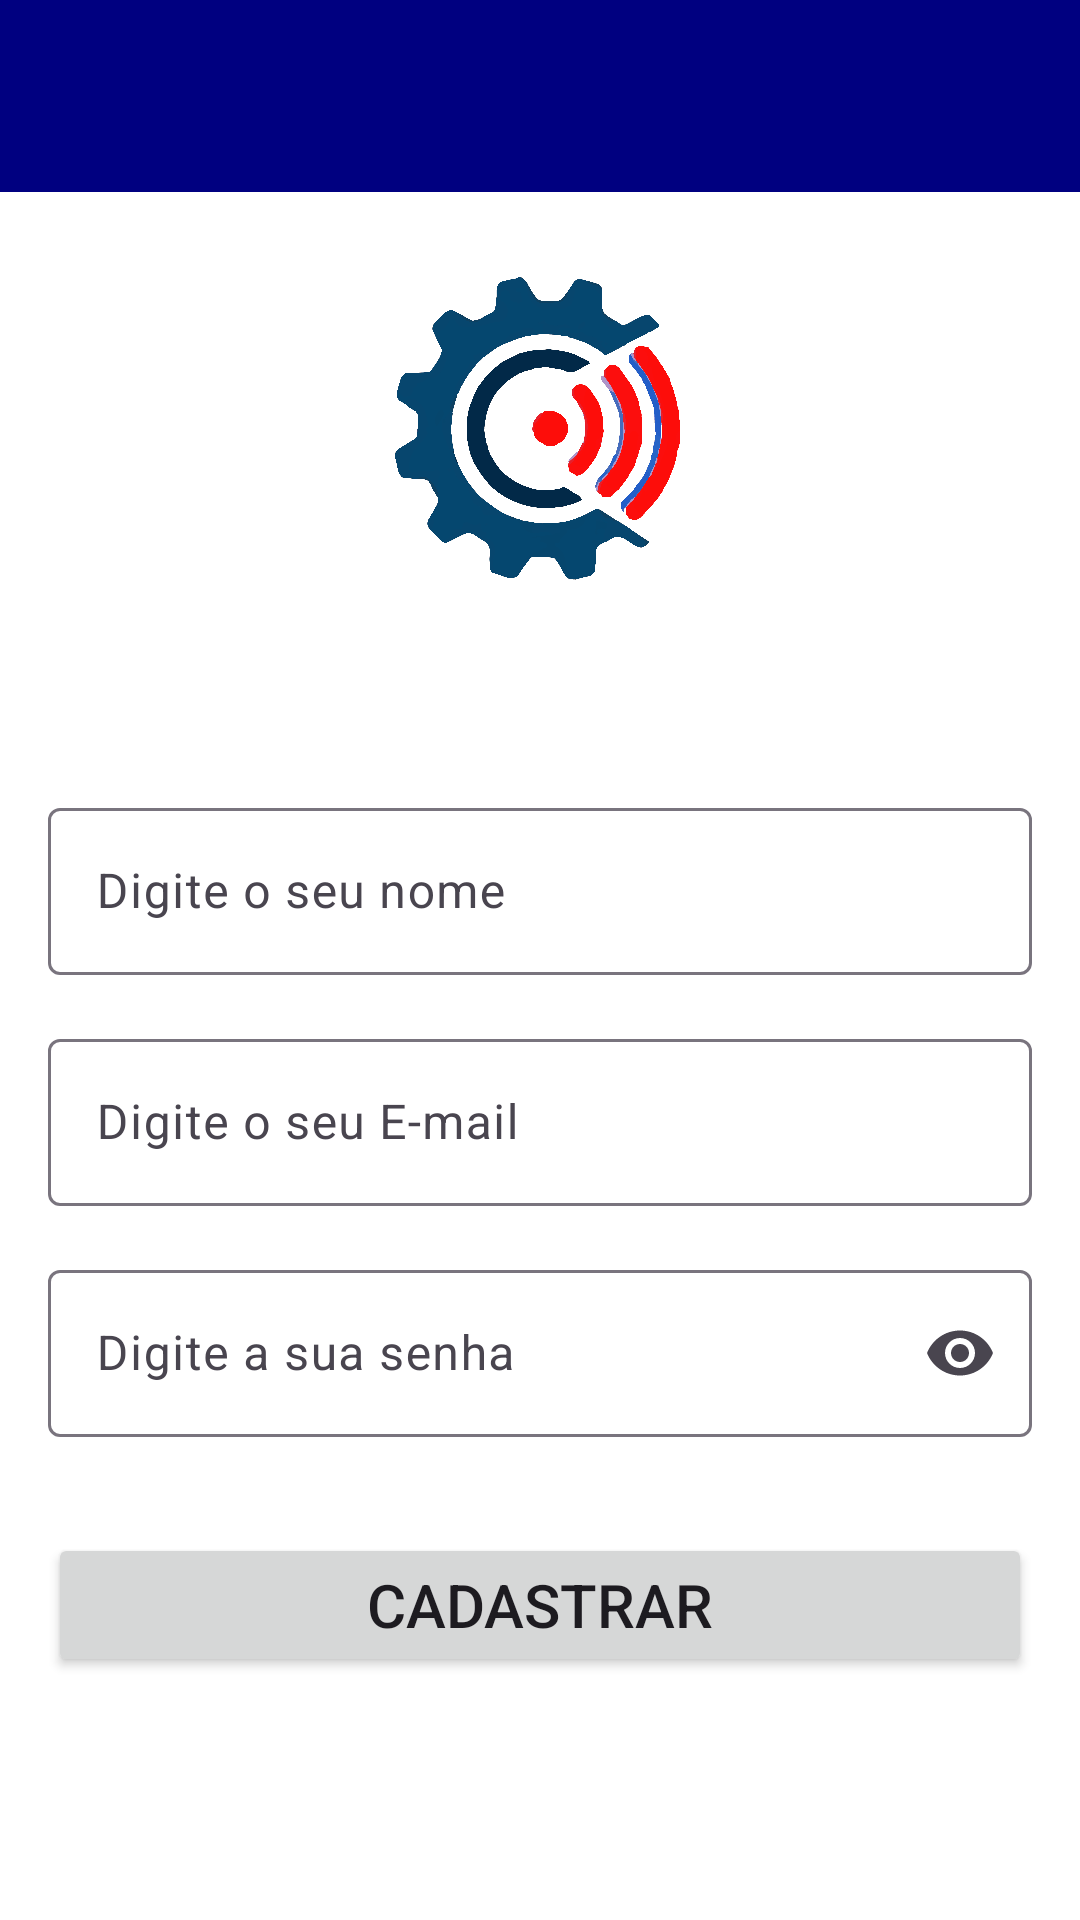

Where to tap for icons on this 1080w x 1920h app screen, as point (x, y):
engrenagem: point (537, 428)
